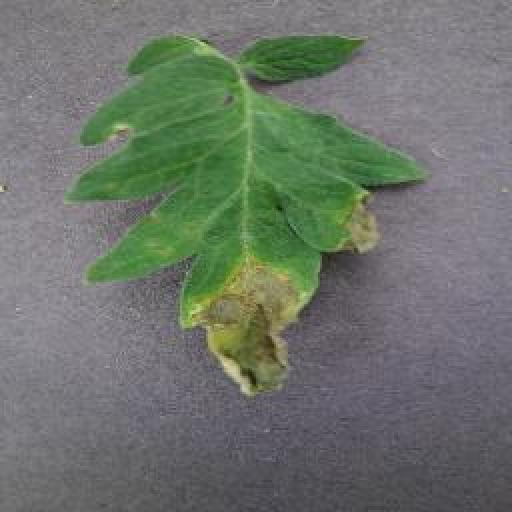disease_tomato: (80, 32, 430, 406)
